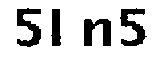5: (117, 4, 152, 49), (13, 5, 45, 52)
I: (49, 6, 70, 50)
n: (81, 13, 115, 52)
